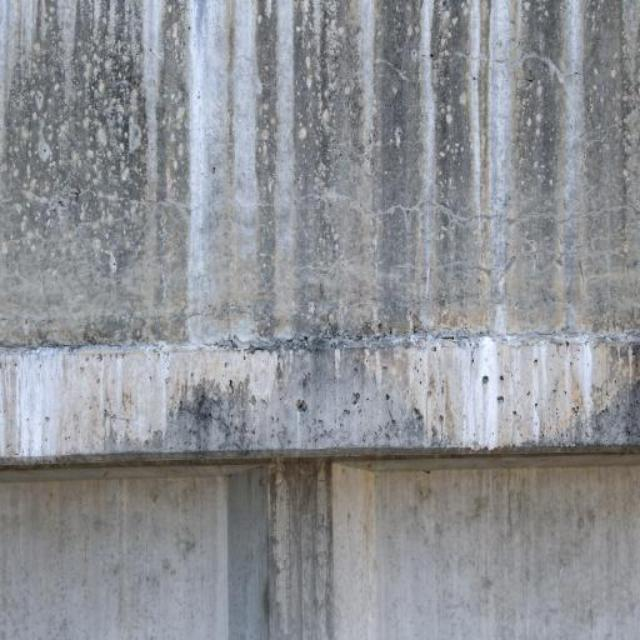D01: (486, 2, 517, 333), (562, 2, 584, 240), (418, 2, 435, 309)
